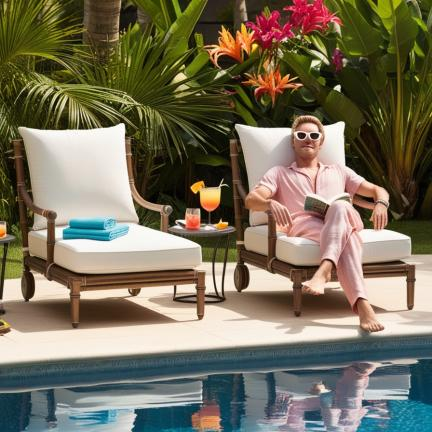guest on chair: (230, 116, 415, 332)
occupied chair: (14, 124, 205, 327)
